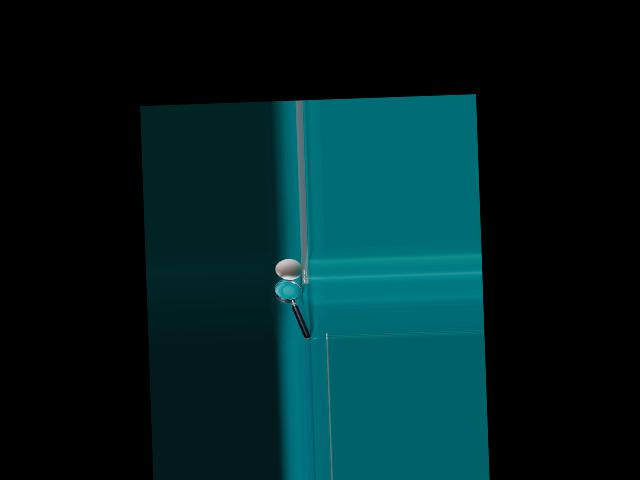egg: (275, 257, 302, 280)
